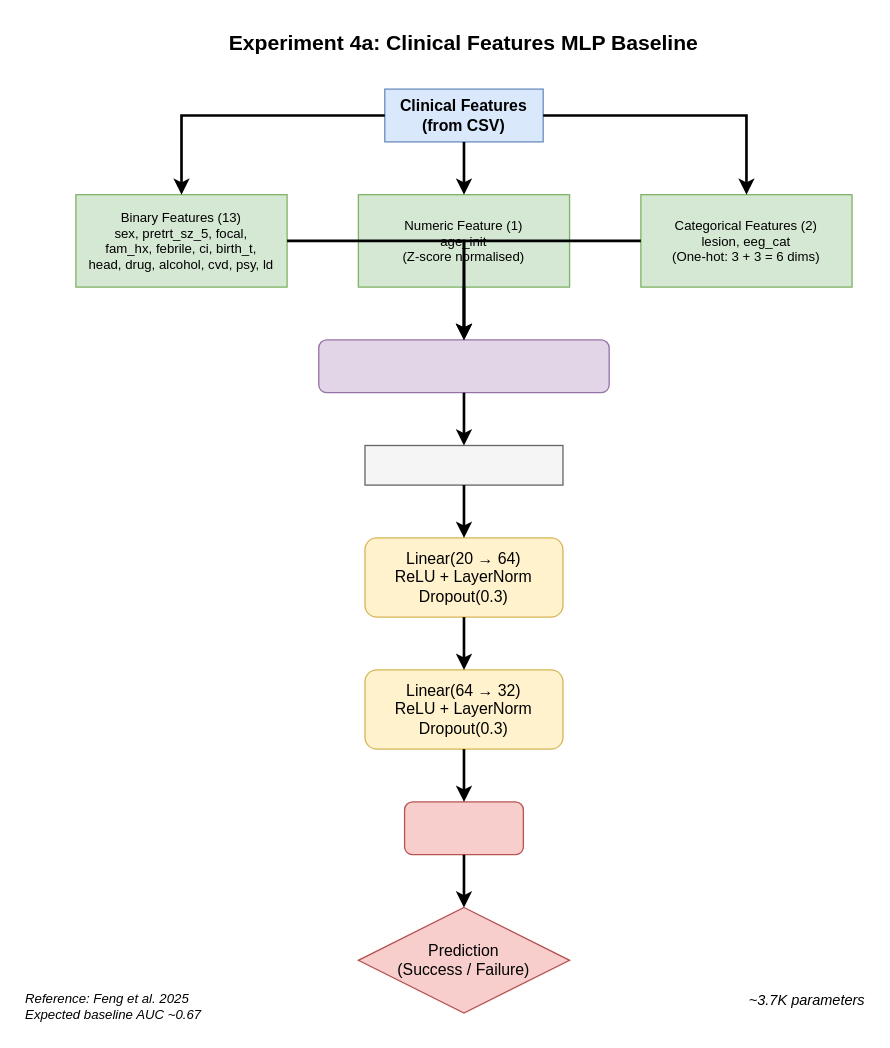
Image size: 890x1048. Some labels were removed from this diagram. Here are the shapes that lost their labels. From the top down, the box of each, then its label:
(317, 339, 609, 393): Preprocessor (Mode imputation, standardisation)
(364, 444, 563, 485): [20-dim feature vector]
(403, 801, 523, 855): Linear(32 → 2)
